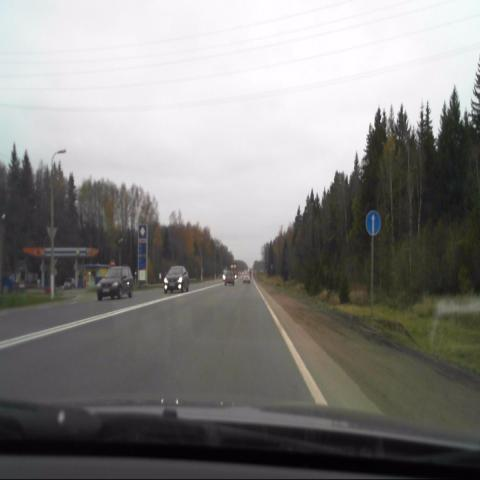4_1_1: (364, 209, 380, 235)
